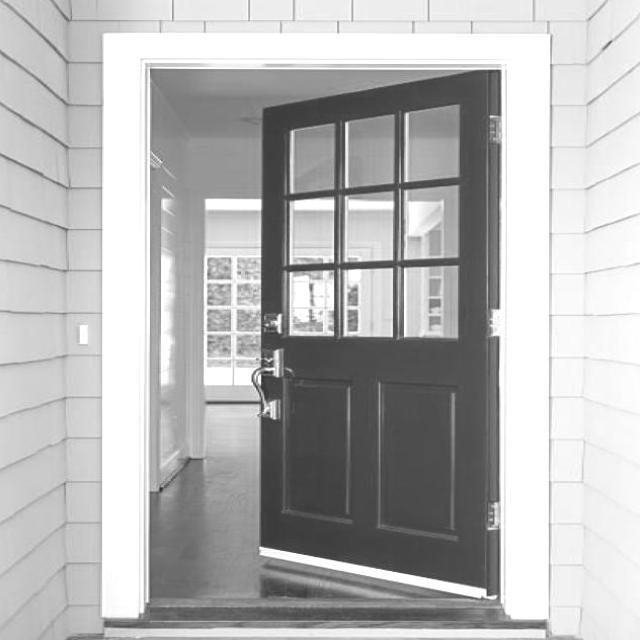door: (256, 69, 500, 598)
